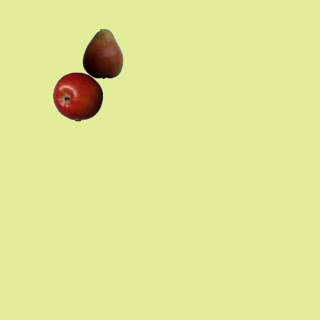Apple Braeburn: (52, 71, 102, 121)
Pear Forelle: (77, 28, 127, 78)
